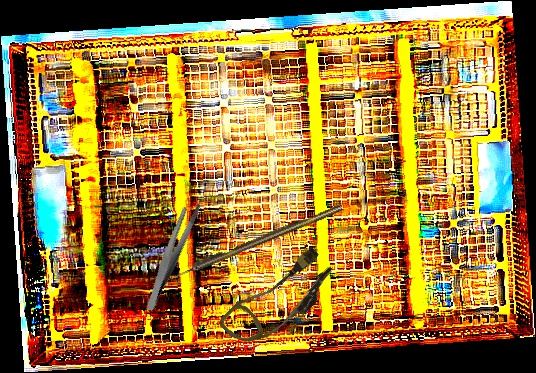Cannula: (216, 236, 342, 363)
Dressing Forceps: (120, 198, 223, 312)
Hook Surgical: (169, 203, 344, 281)
